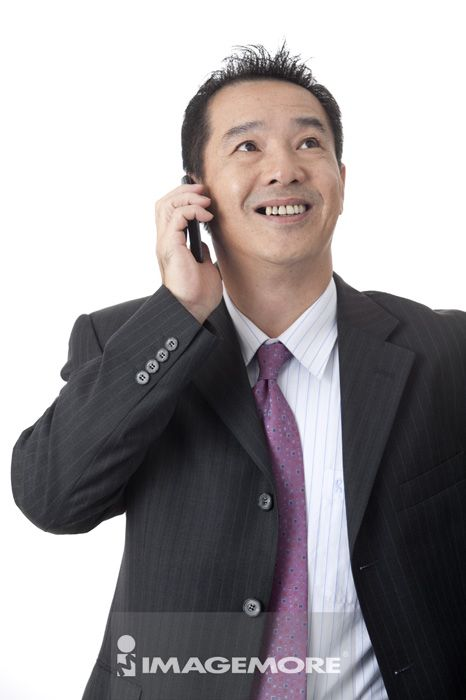phone: (176, 170, 203, 266)
talk: (151, 106, 331, 309)
